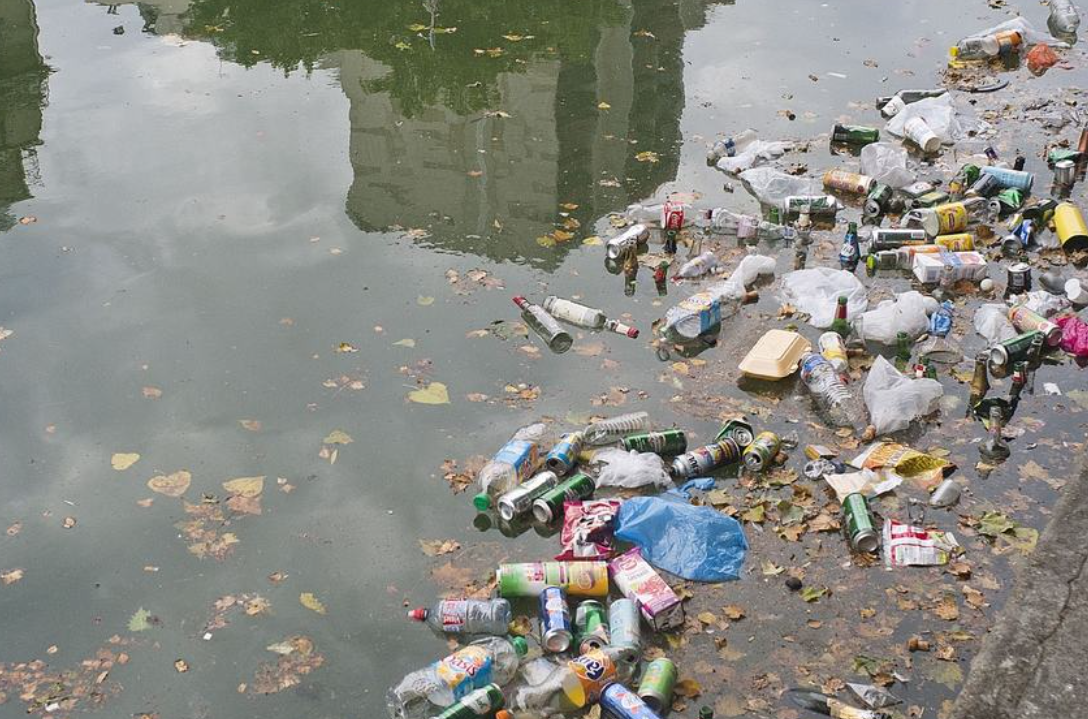garbage: (406, 3, 1088, 719), (386, 634, 656, 719), (803, 332, 952, 452), (938, 152, 1082, 252), (581, 485, 742, 574), (848, 210, 1007, 295), (799, 432, 973, 509), (959, 295, 1083, 403), (956, 159, 1088, 255), (484, 423, 595, 536), (744, 231, 878, 324), (708, 127, 831, 228), (594, 411, 753, 489), (820, 98, 954, 186), (938, 22, 1078, 99), (594, 597, 682, 711), (499, 285, 641, 352), (649, 273, 759, 338), (731, 315, 816, 397), (703, 245, 790, 318), (488, 563, 634, 606), (391, 584, 512, 635), (646, 188, 753, 239), (884, 515, 971, 576), (786, 673, 887, 719), (528, 585, 586, 663), (603, 215, 674, 272), (829, 497, 894, 544)
